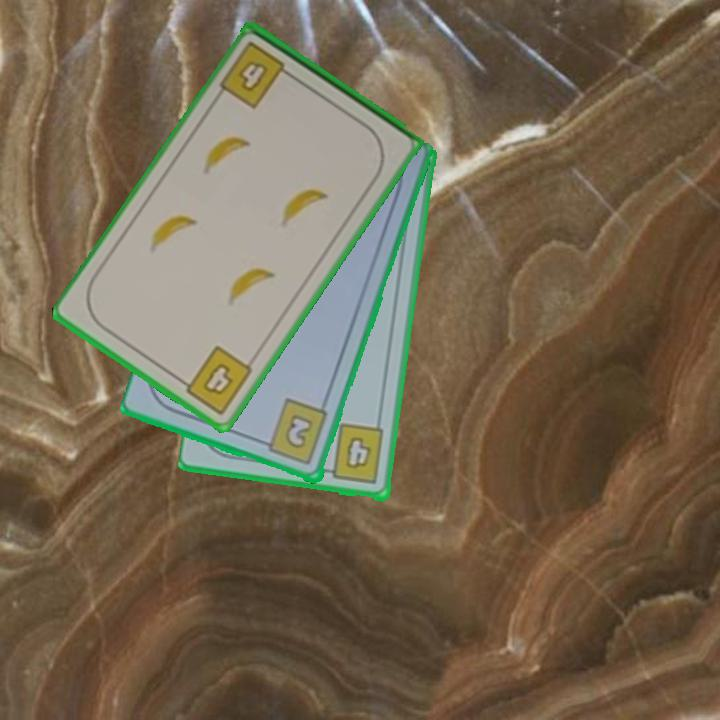2b: (257, 396, 331, 468)
4b: (174, 342, 256, 418), (216, 38, 298, 112), (319, 421, 387, 488)
